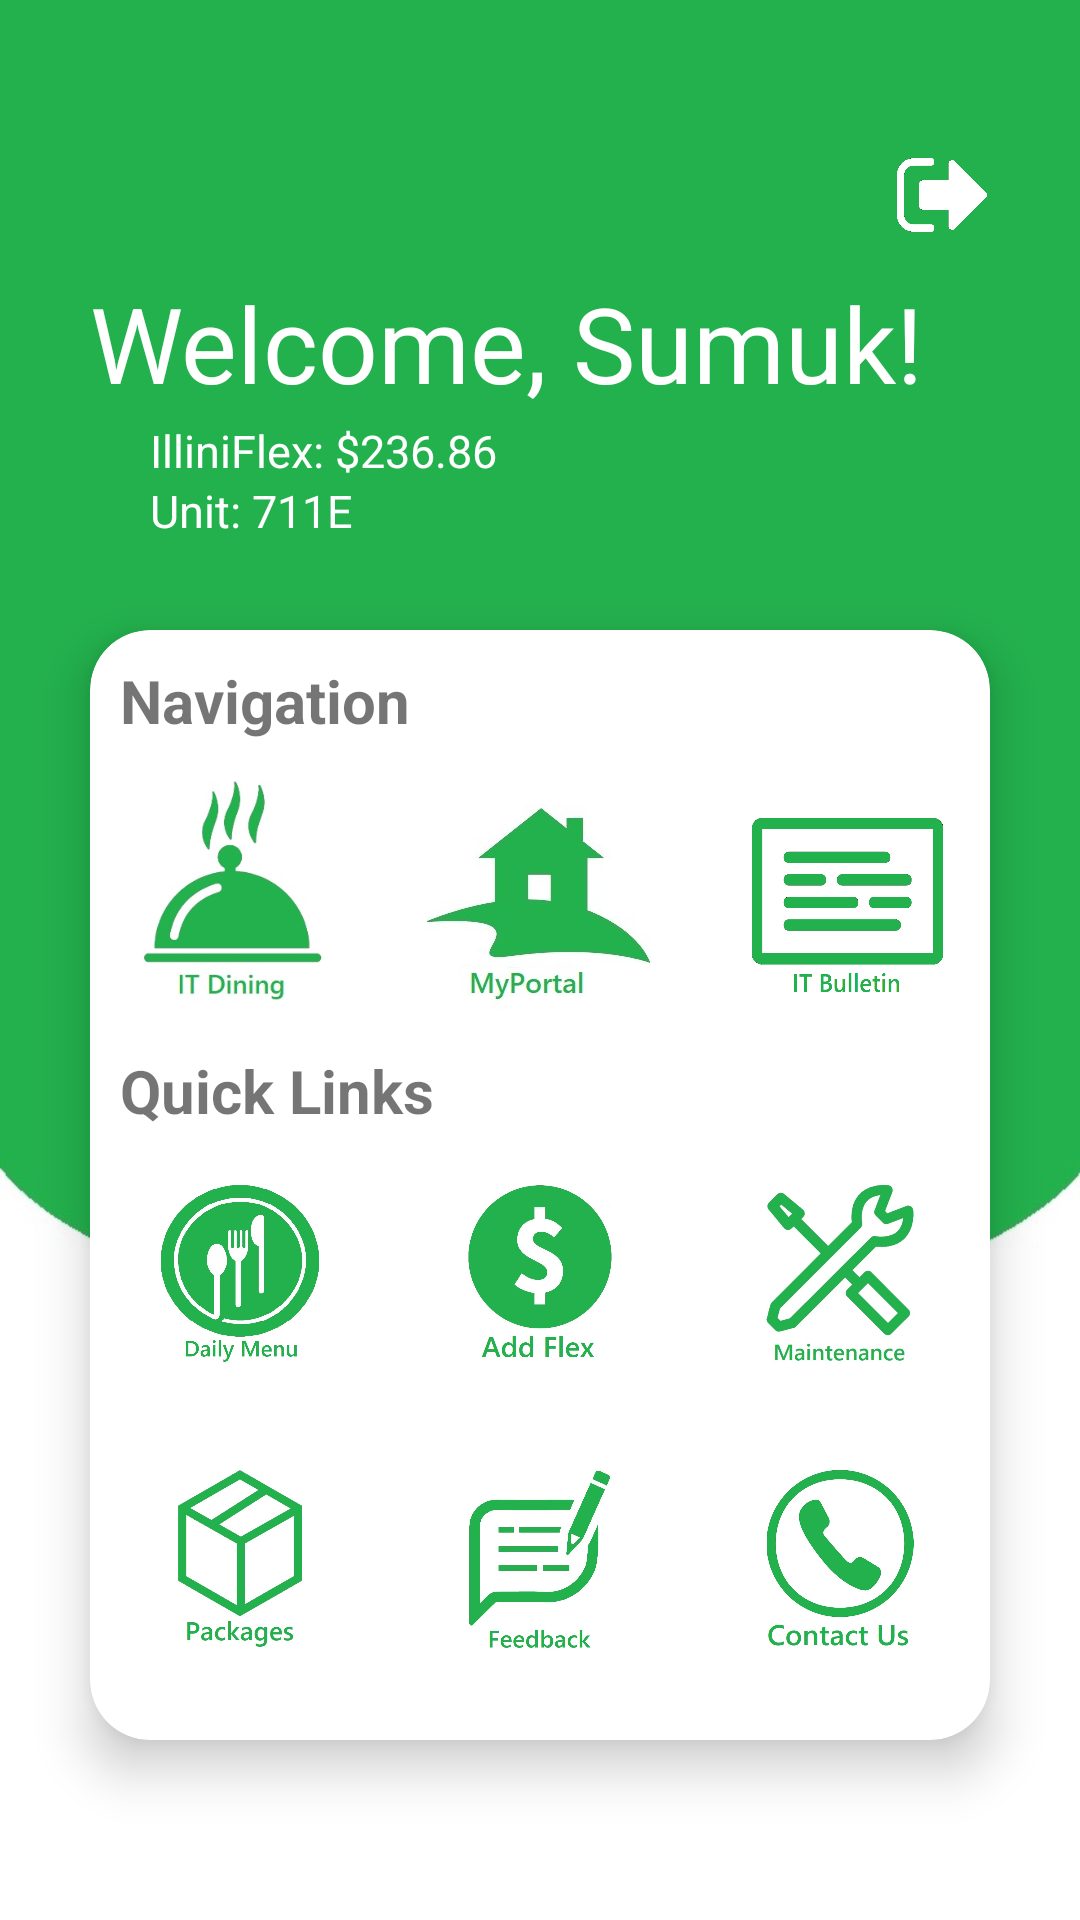

Where to tap for icons on this 1080w x 1920h app screen, as (x,y):
add cash text: (540,1271)
signout: (942,195)
